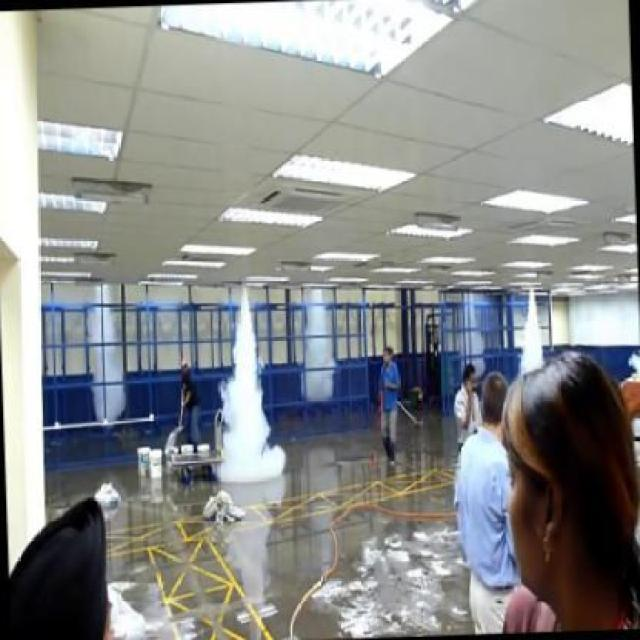fire: (212, 292, 288, 490), (513, 298, 547, 377)
